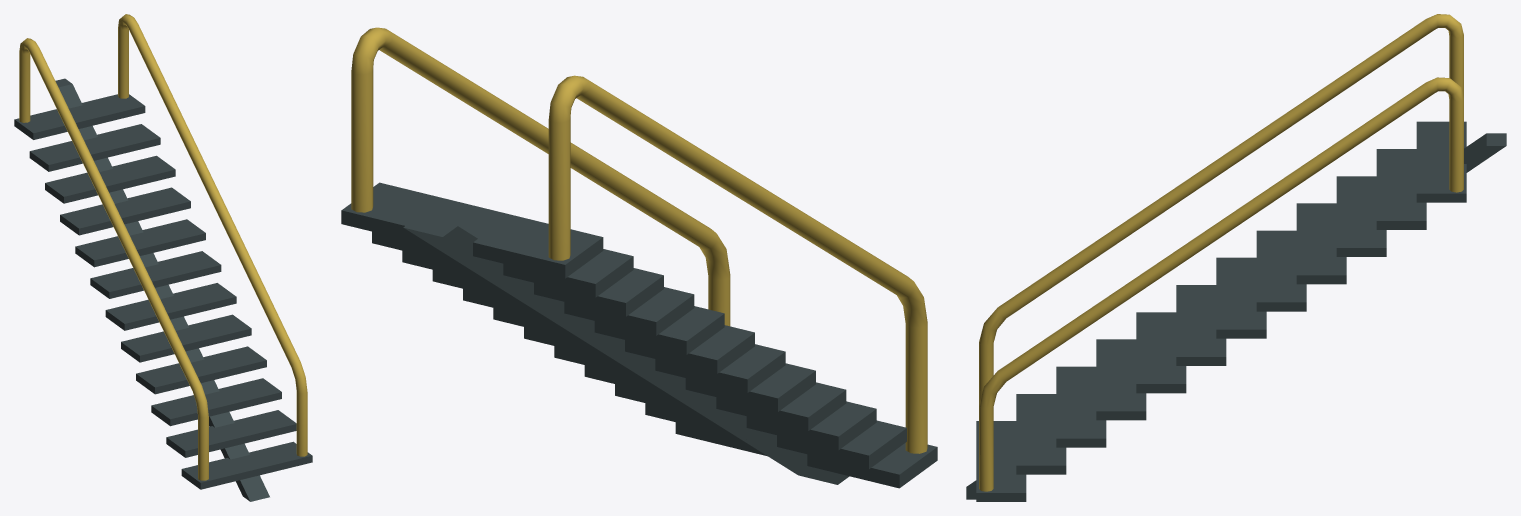
File: Ladder.fbx
3 renders of one model, left to right at view 1: azimuth 30°, elevation 25°; view 2: azimuth 150°, elevation 25°; view 3: azimuth 270°, elevation 25°, orthographic. The views are drawn at different scales.
Visible parts, largest first — view 1: Circle.004; view 2: Circle.004; view 3: Circle.004.
Boxes of the visible parts, <box> form: Circle.004: <box>14,14,312,501</box>; Circle.004: <box>341,27,937,488</box>; Circle.004: <box>966,14,1506,501</box>.
Size of the model in its own units: 1.7 by 4.93 by 5.4.
